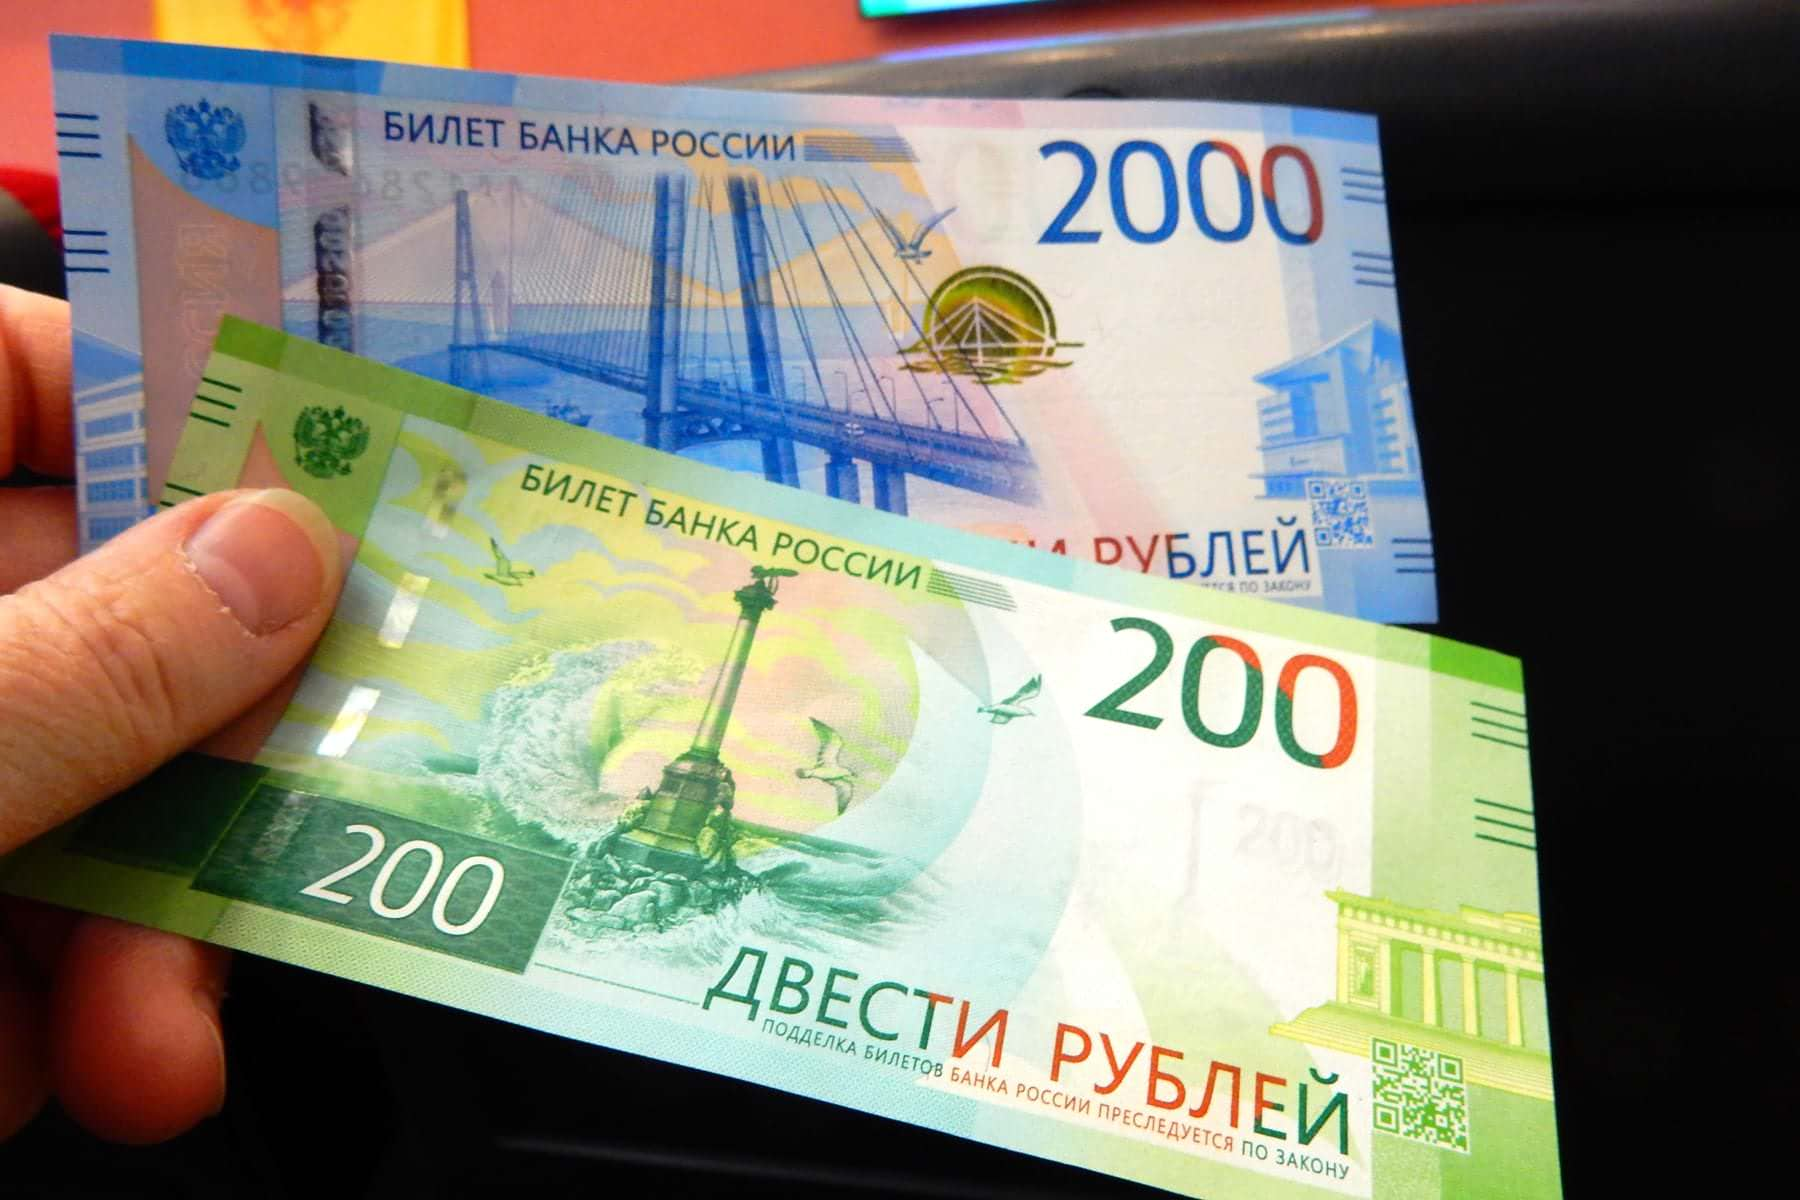cash: (163, 311, 1562, 1200), (50, 32, 1445, 628)
